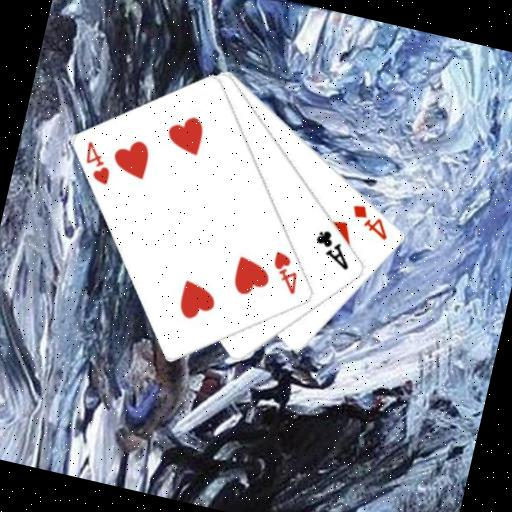4D: (345, 200, 396, 243)
4H: (76, 138, 119, 188), (264, 247, 306, 297)
AC: (308, 225, 358, 274)
